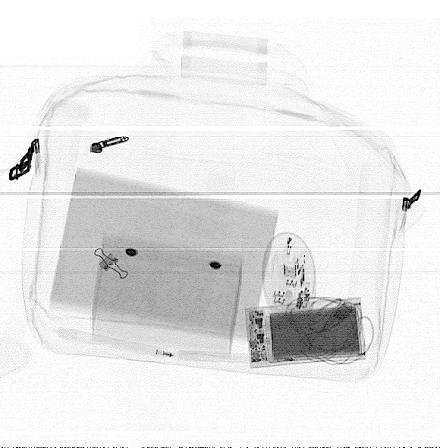Powerbank: (245, 297, 367, 369)
